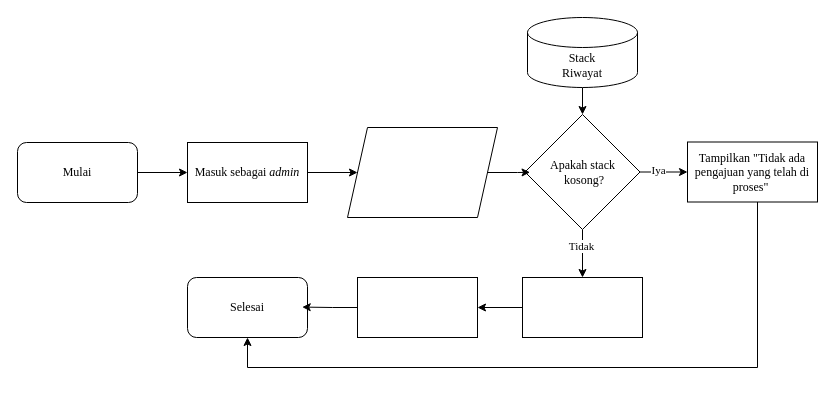
This 835x393 diagram has some shape labels left out. The box of each missing label's shape, as (x1, y1, x2, y2) in pixels:
admin memilih opsi: tampilkan data terakhir yang telah diproses: (346, 126, 498, 218)
Akses elemen pada posisi TOP: (522, 276, 642, 338)
Tampilkan data terakhir yang telah diproses: (356, 276, 478, 338)
